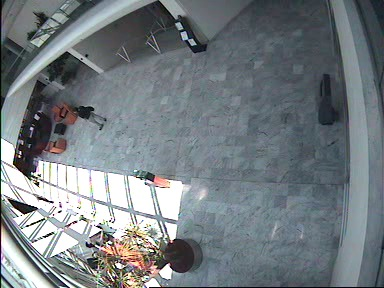person: (72, 103, 106, 129)
